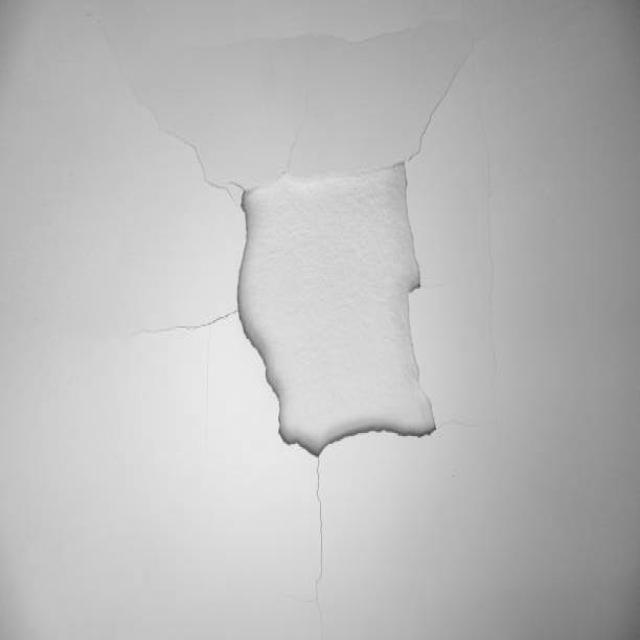peeling paint: (97, 31, 551, 614)
